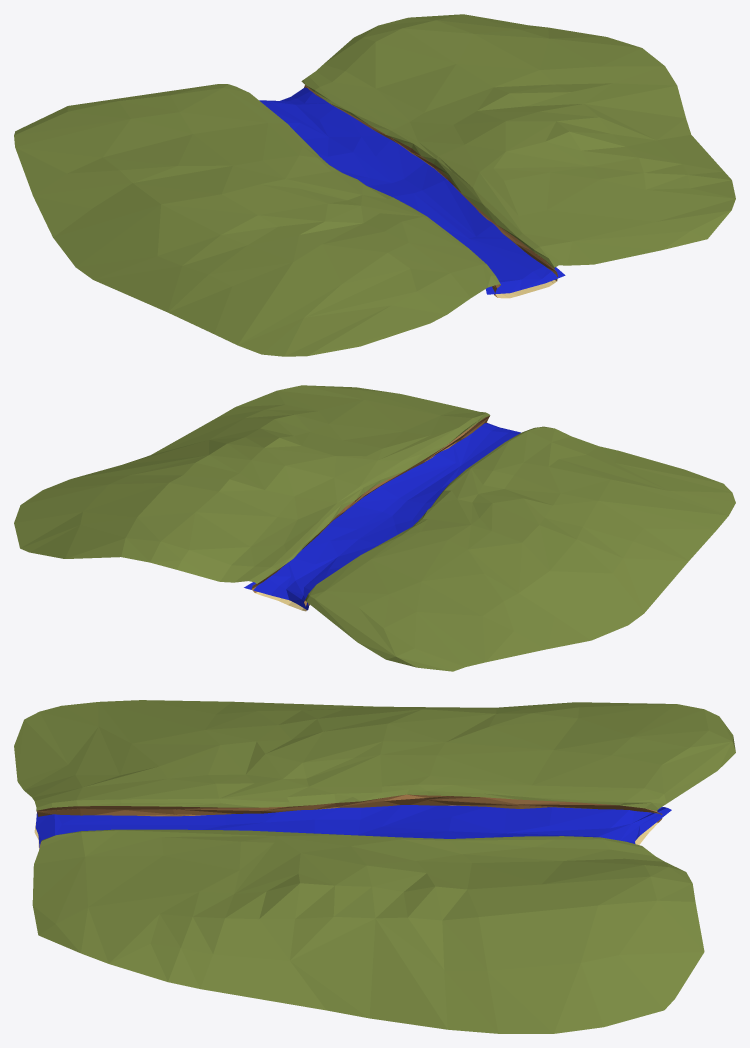
The model's file is Terrain_River_Straight-03.FBX.
3 views of the same model, one above another, from view 1: azimuth 30°, elevation 25°; view 2: azimuth 150°, elevation 25°; view 3: azimuth 270°, elevation 25° (orthographic). The views are drawn at different scales.
Visible parts, largest first — view 1: Terrain_River_Straight-03; view 2: Terrain_River_Straight-03; view 3: Terrain_River_Straight-03.
Boxes of the visible parts, x1,y1,x2,y2 form: Terrain_River_Straight-03: (14,14,735,356); Terrain_River_Straight-03: (14,385,735,671); Terrain_River_Straight-03: (14,700,735,1033).
Size of the model in its own units: 6935 by 691 by 5947.
Materials: 2 (1 with a texture image).
